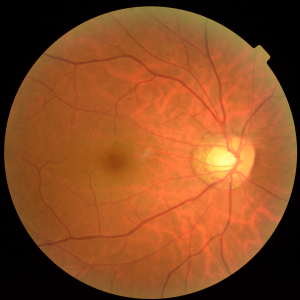healthy_eye: (54, 99, 270, 209)
